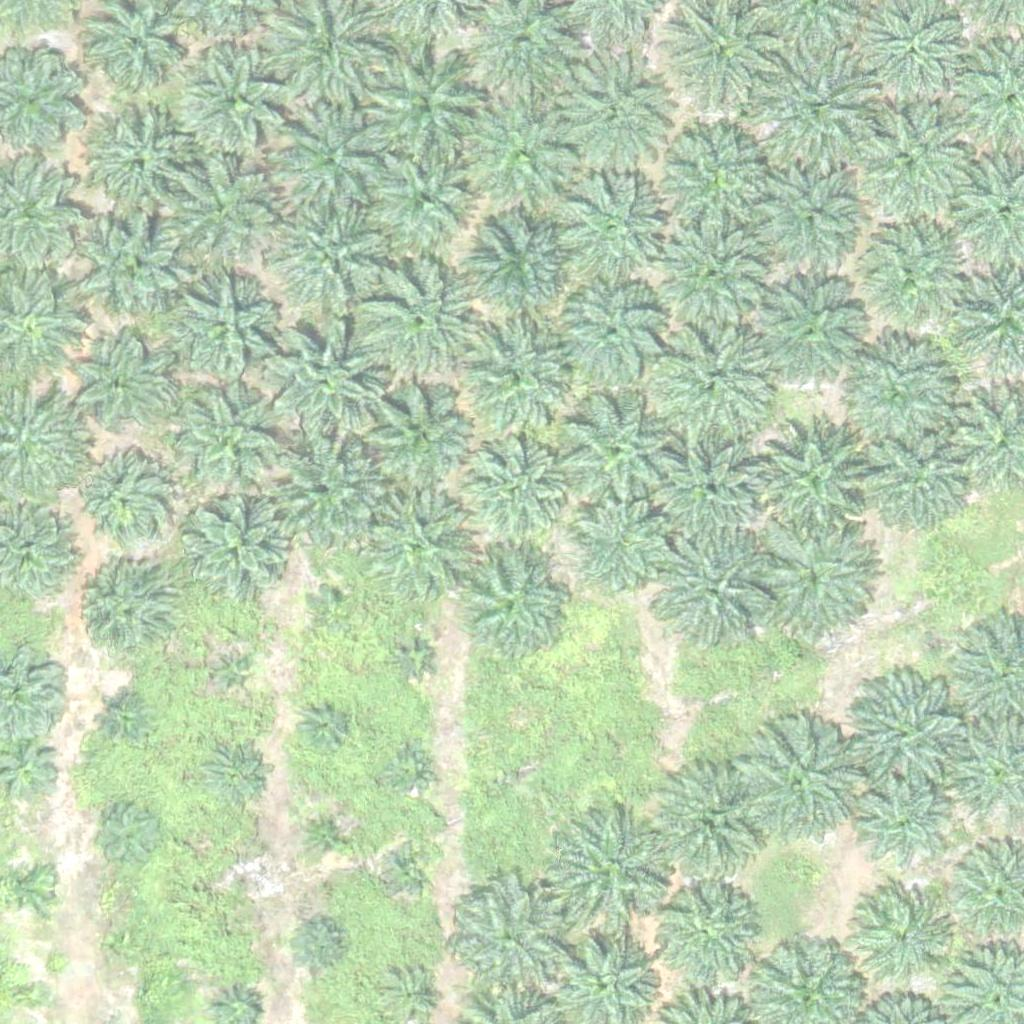Kelapa_Sawit: (167, 381, 292, 507), (270, 96, 395, 222), (268, 190, 393, 316), (263, 325, 388, 451), (263, 440, 388, 566), (360, 35, 485, 161), (364, 134, 489, 260), (360, 255, 485, 381), (350, 368, 475, 494), (452, 90, 577, 216), (546, 172, 671, 298), (549, 49, 674, 175), (551, 392, 676, 518), (656, 212, 781, 338), (655, 320, 780, 446), (651, 528, 776, 654), (837, 102, 962, 228), (750, 413, 875, 539), (754, 517, 879, 643), (841, 671, 966, 797), (735, 724, 860, 850), (552, 809, 677, 935), (656, 118, 781, 243), (842, 213, 967, 338), (831, 331, 956, 456), (452, 429, 565, 543), (464, 322, 577, 436), (565, 491, 678, 605), (654, 763, 767, 877), (85, 110, 198, 223), (70, 206, 183, 319), (184, 496, 297, 609), (456, 548, 569, 661), (467, 210, 580, 323), (751, 276, 864, 389), (752, 162, 865, 275), (765, 47, 878, 160), (857, 421, 970, 534), (164, 157, 276, 271), (179, 44, 291, 157), (166, 270, 278, 383), (363, 496, 475, 609), (557, 280, 669, 393), (649, 436, 761, 549), (453, 882, 565, 995), (69, 334, 169, 435), (71, 451, 171, 552), (69, 564, 169, 665), (852, 773, 952, 874), (850, 888, 950, 988), (654, 881, 754, 981), (88, 797, 163, 872), (286, 914, 349, 977), (204, 745, 266, 808), (385, 971, 435, 1022), (1, 859, 51, 910), (301, 806, 351, 857), (299, 697, 349, 747), (385, 844, 435, 894), (388, 634, 438, 684), (384, 745, 434, 795), (204, 649, 254, 699), (307, 580, 357, 630), (108, 927, 146, 965), (106, 703, 144, 740), (231, 860, 256, 885), (19, 980, 44, 1005)
